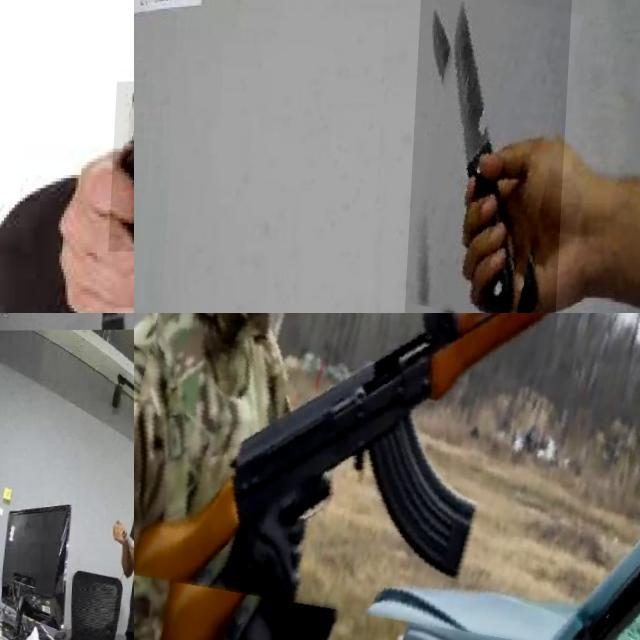-: (409, 0, 573, 313), (0, 313, 39, 443), (85, 313, 134, 415), (0, 528, 6, 571), (127, 526, 134, 559)
gun-knife-thesis - v11 Yolov5 augmented: (134, 313, 640, 640), (112, 81, 134, 252)
